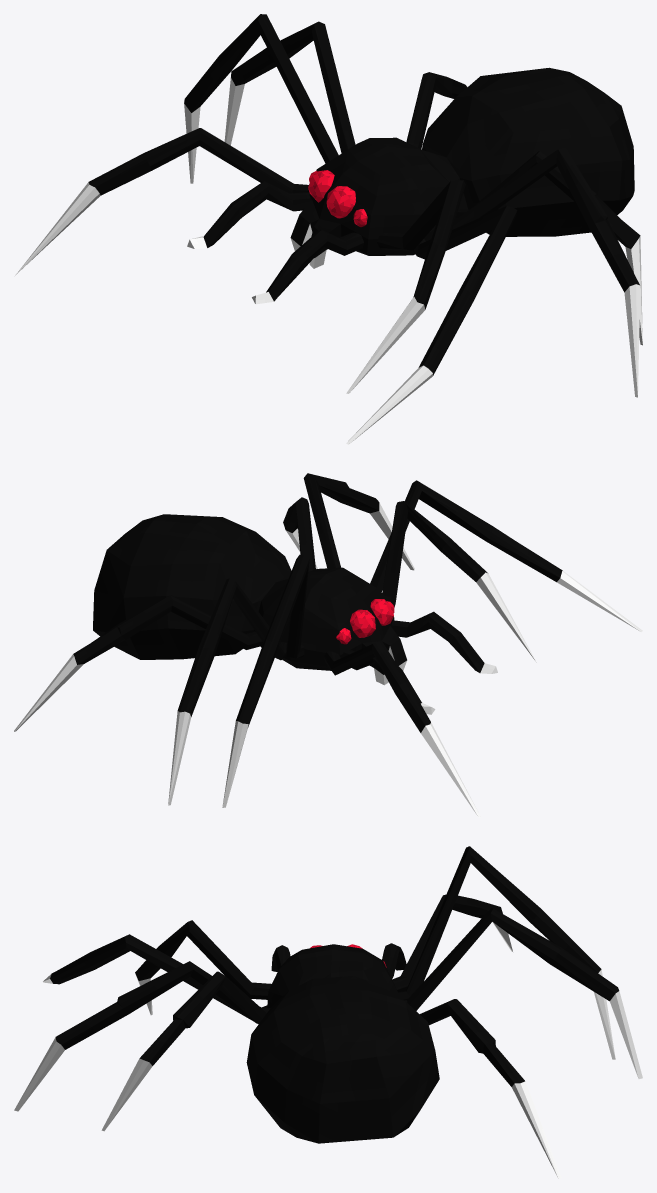
The model's file is spiderWalking6.obj.
3 views of the same model, one above another, from view 1: azimuth 30°, elevation 25°; view 2: azimuth 150°, elevation 25°; view 3: azimuth 270°, elevation 25° (orthographic). The views are drawn at different scales.
Parts seen in each view (by area): view 1: Cube.001_Cube.002; view 2: Cube.001_Cube.002; view 3: Cube.001_Cube.002.
Boxes of the visible parts, x1,y1,x2,y2 form: Cube.001_Cube.002: (14,14,642,444); Cube.001_Cube.002: (14,473,642,817); Cube.001_Cube.002: (14,846,642,1178).
Size of the model in its own units: 29.36 by 12.6 by 34.32.
